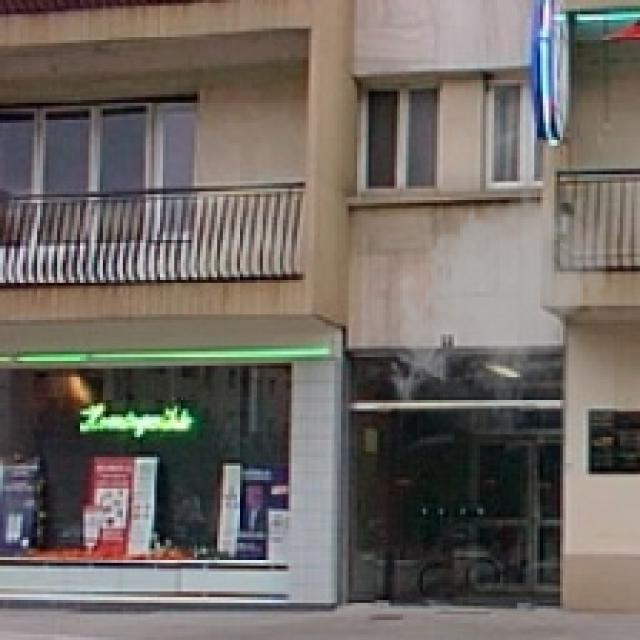smoke: (383, 177, 617, 434)
